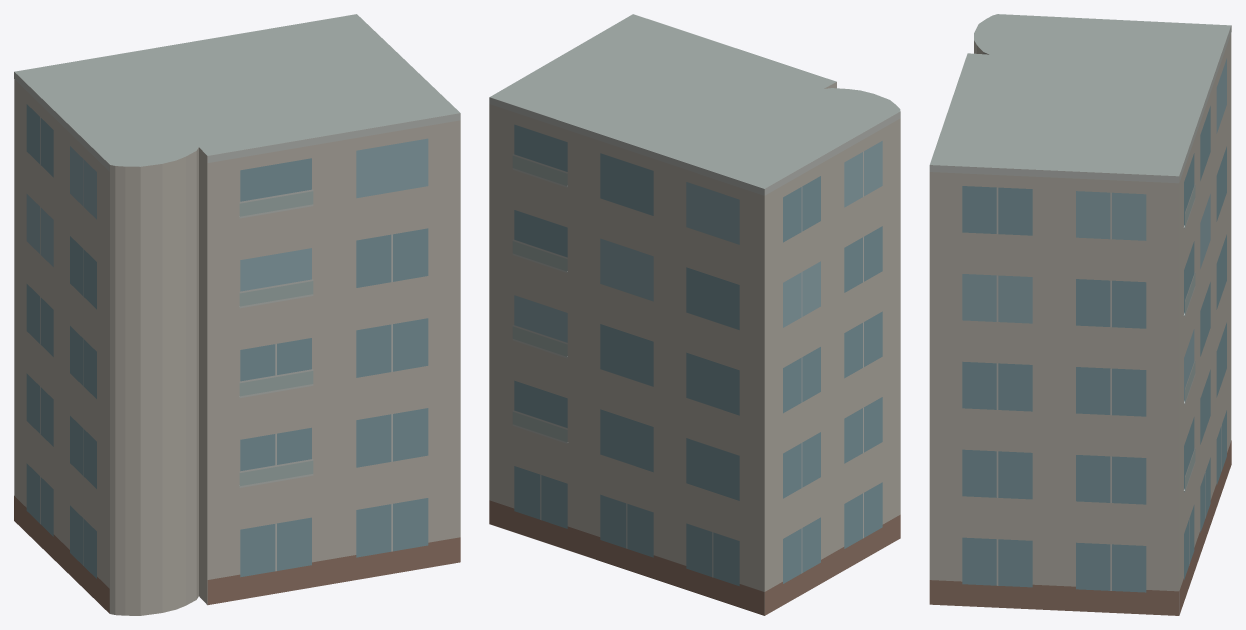
File: survey-upis-32897082.glb
The picture shows the model from 3 angles, left to right: view 1: azimuth 30°, elevation 25°; view 2: azimuth 150°, elevation 25°; view 3: azimuth 270°, elevation 25°; orthographic projection. The views are drawn at different scales.
Parts seen in each view (by area): view 1: survey-upis-32897082.tmp; view 2: survey-upis-32897082.tmp; view 3: survey-upis-32897082.tmp.
Part boxes in pixels (bbox=[...]): survey-upis-32897082.tmp: bbox=[14, 14, 460, 615]; survey-upis-32897082.tmp: bbox=[489, 14, 900, 615]; survey-upis-32897082.tmp: bbox=[929, 14, 1231, 615].
Bounding box in the file's own units: 12.08 × 15.25 × 9.5.
